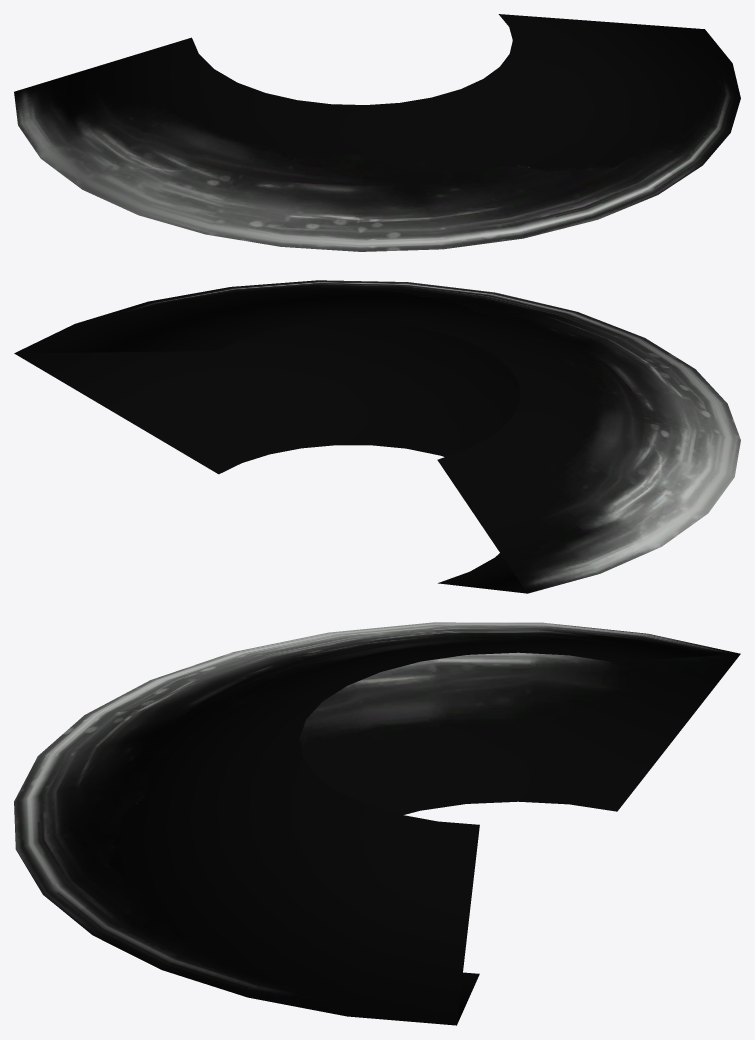
File: Fx_daoguang_001.FBX
3 renders of one model, top to bottom at view 1: azimuth 30°, elevation 25°; view 2: azimuth 150°, elevation 25°; view 3: azimuth 270°, elevation 25°, orthographic. The views are drawn at different scales.
Parts seen in each view (by area): view 1: Plane004; view 2: Plane004; view 3: Plane004.
Part boxes in pixels (x1=…): Plane004: x1=14, y1=14, x2=740, y2=251; Plane004: x1=14, y1=280, x2=740, y2=593; Plane004: x1=14, y1=622, x2=740, y2=1025.
Bounding box in the file's own units: 2.8 × 0.4819 × 2.13.
1 material, 1 textured.
